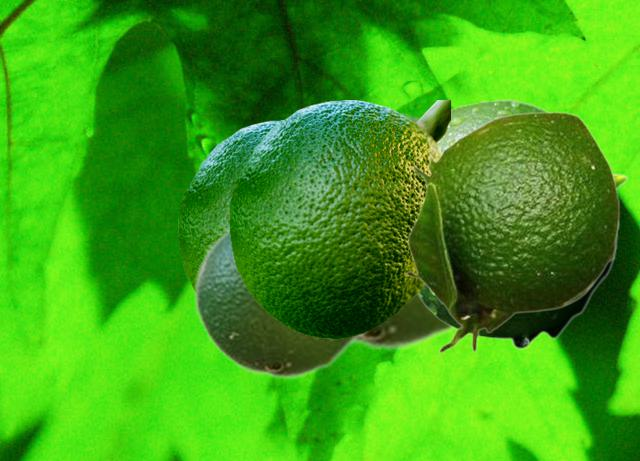dalandan: (417, 98, 627, 349), (229, 100, 449, 337), (404, 111, 619, 353), (193, 224, 368, 379), (349, 109, 454, 351), (178, 120, 281, 290)
